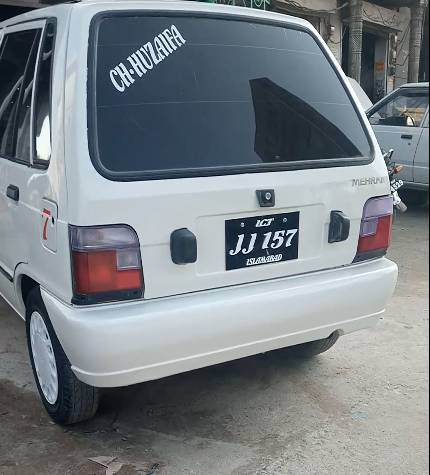number_plate: (225, 216, 301, 268)
